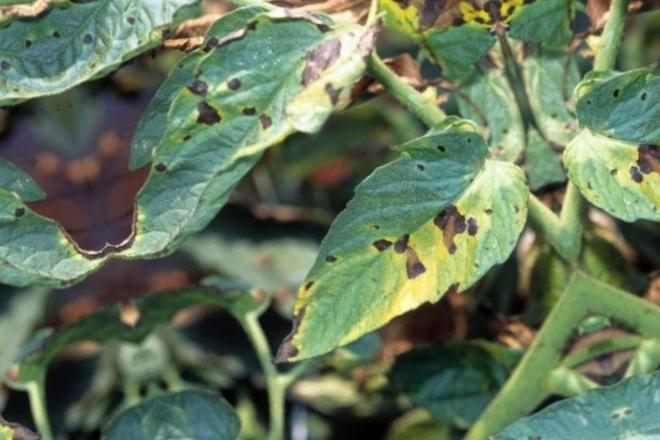Tomato Early blight leaf: (78, 0, 417, 269), (238, 103, 556, 383)
